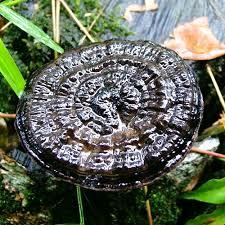Ganoderma - Fruit Body: (18, 37, 203, 191)
